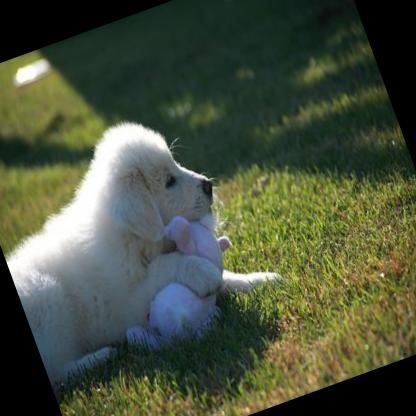Great_Pyrenees: (0, 86, 289, 387)
